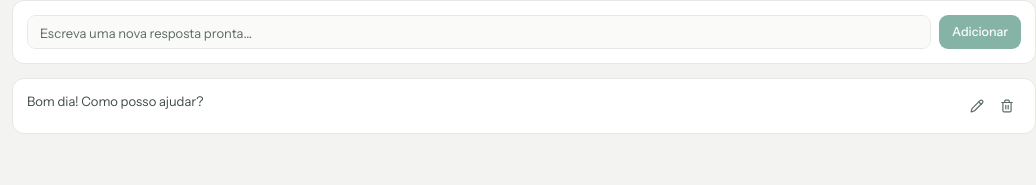
Test: QuickRepliesPanel (Fase 1, Bloco F1.9) › erro de uma AÇÃO sobre dados já carregados vira banner discreto — a lista continua visível
Expected: the text "Bom dia! Como posso ajudar?" is shown, left=27, top=93, right=203, bottom=109
Click the button named "Excluir" at [1007, 106], box left=993, top=92, right=1021, bottom=120
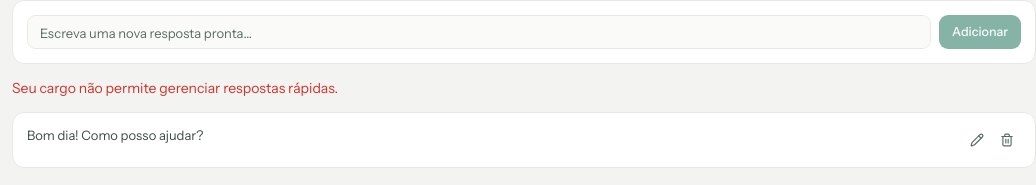
Expected: the text "Bom dia! Como posso ajudar?" is shown, left=27, top=127, right=203, bottom=143
Now the text "Seu cargo não permite gerenciar respostas rápidas." is shown, box left=12, top=79, right=338, bottom=97
